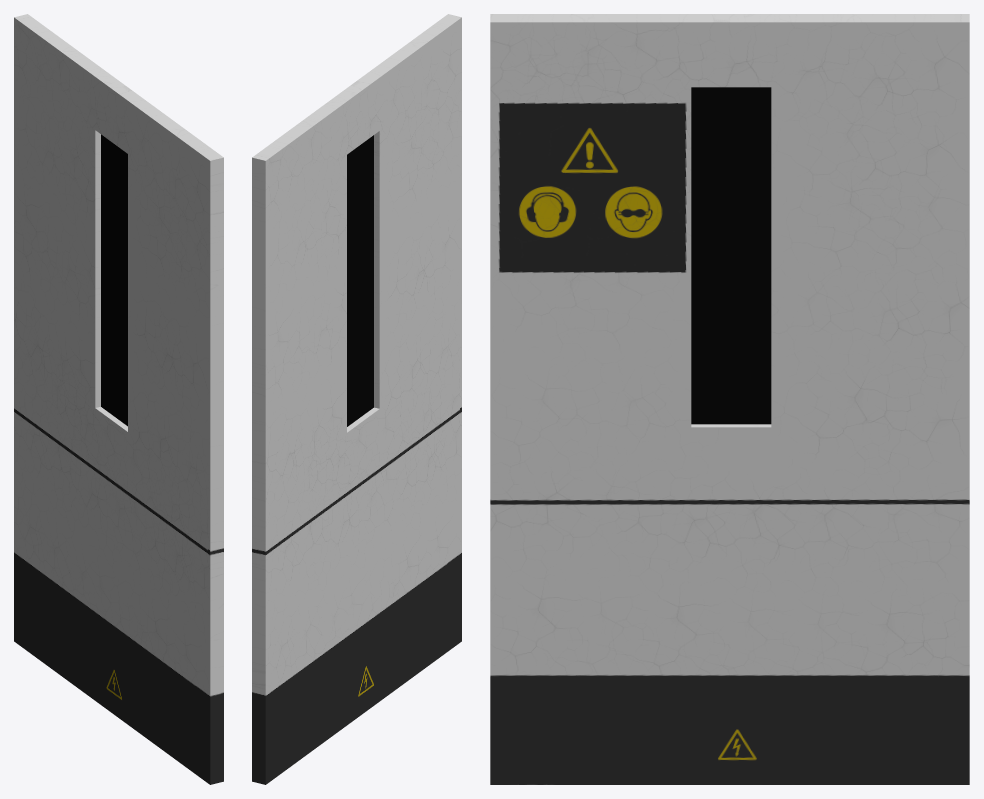
Rendered from lab_door.FBX.
The picture shows the model from 3 angles, left to right: view 1: azimuth 30°, elevation 25°; view 2: azimuth 150°, elevation 25°; view 3: azimuth 270°, elevation 25°; orthographic projection. The views are drawn at different scales.
Visible parts, largest first — view 1: lab_door, Glass; view 2: lab_door, Glass; view 3: lab_door, Glass.
Boxes of the visible parts, x1=… form: lab_door: x1=14, y1=14, x2=223, y2=784; Glass: x1=101, y1=134, x2=127, y2=426; lab_door: x1=252, y1=14, x2=461, y2=784; Glass: x1=347, y1=135, x2=373, y2=426; lab_door: x1=490, y1=14, x2=969, y2=784; Glass: x1=691, y1=87, x2=771, y2=424.
Size of the model in its own units: 0.0335 by 1.45 by 0.8264.
Materials: 2 (2 with a texture image).
